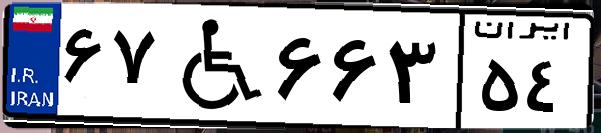3: (385, 28, 445, 110)
4: (525, 38, 570, 115)
5: (475, 38, 525, 113)
6: (270, 28, 330, 110), (330, 28, 385, 110), (57, 26, 110, 100)
7: (110, 28, 158, 98)
ژ (معلولین و جانبازان): (158, 12, 270, 120)
